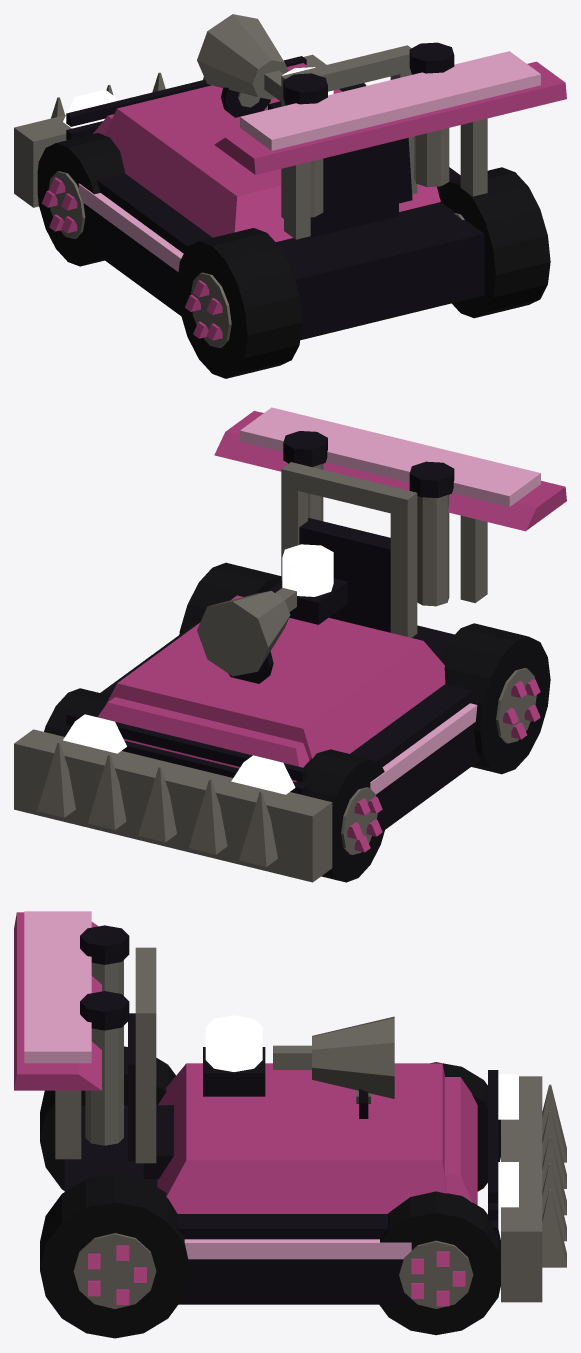
Rendered from BOSS_COUNCIL_MAGENTA.fbx.
3 views of the same model, one above another, from view 1: azimuth 30°, elevation 25°; view 2: azimuth 150°, elevation 25°; view 3: azimuth 270°, elevation 25° (orthographic). The views are drawn at different scales.
Parts seen in each view (by area): view 1: BOSS_COUNCIL_MAGENTA_Body, BOSS_COUNCIL_MAGENTA_Wheel_RL, BOSS_COUNCIL_MAGENTA_Wheel_RR, BOSS_COUNCIL_MAGENTA_Wheel_FL, BOSS_COUNCIL_MAGENTA_Steering; view 2: BOSS_COUNCIL_MAGENTA_Body, BOSS_COUNCIL_MAGENTA_Wheel_RL, BOSS_COUNCIL_MAGENTA_Wheel_FL, BOSS_COUNCIL_MAGENTA_Wheel_RR, BOSS_COUNCIL_MAGENTA_Wheel_FR; view 3: BOSS_COUNCIL_MAGENTA_Body, BOSS_COUNCIL_MAGENTA_Wheel_RR, BOSS_COUNCIL_MAGENTA_Wheel_FR, BOSS_COUNCIL_MAGENTA_Wheel_RL, BOSS_COUNCIL_MAGENTA_Wheel_FL.
Boxes of the visible parts, x1,y1,x2,y2 form: BOSS_COUNCIL_MAGENTA_Body: [14, 14, 566, 340]; BOSS_COUNCIL_MAGENTA_Wheel_RL: [177, 228, 302, 378]; BOSS_COUNCIL_MAGENTA_Wheel_RR: [437, 167, 550, 318]; BOSS_COUNCIL_MAGENTA_Wheel_FL: [37, 133, 124, 266]; BOSS_COUNCIL_MAGENTA_Steering: [221, 87, 270, 117]; BOSS_COUNCIL_MAGENTA_Body: [14, 407, 566, 882]; BOSS_COUNCIL_MAGENTA_Wheel_RL: [439, 623, 550, 774]; BOSS_COUNCIL_MAGENTA_Wheel_FL: [296, 749, 389, 882]; BOSS_COUNCIL_MAGENTA_Wheel_RR: [179, 562, 281, 634]; BOSS_COUNCIL_MAGENTA_Wheel_FR: [44, 688, 110, 736]; BOSS_COUNCIL_MAGENTA_Body: [14, 911, 566, 1304]; BOSS_COUNCIL_MAGENTA_Wheel_RR: [40, 1174, 189, 1338]; BOSS_COUNCIL_MAGENTA_Wheel_FR: [369, 1191, 500, 1335]; BOSS_COUNCIL_MAGENTA_Wheel_RL: [40, 1046, 175, 1190]; BOSS_COUNCIL_MAGENTA_Wheel_FL: [430, 1062, 500, 1191].
Size of the model in its own units: 1.56 by 1.24 by 2.13.
